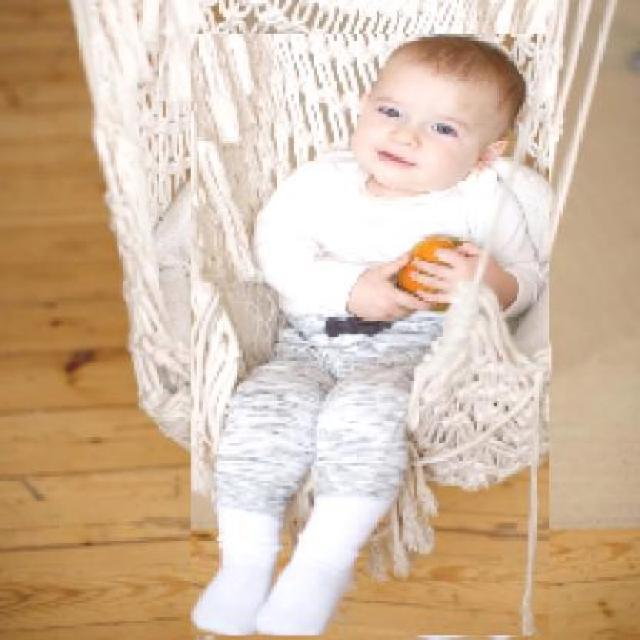child: (188, 34, 548, 637)
